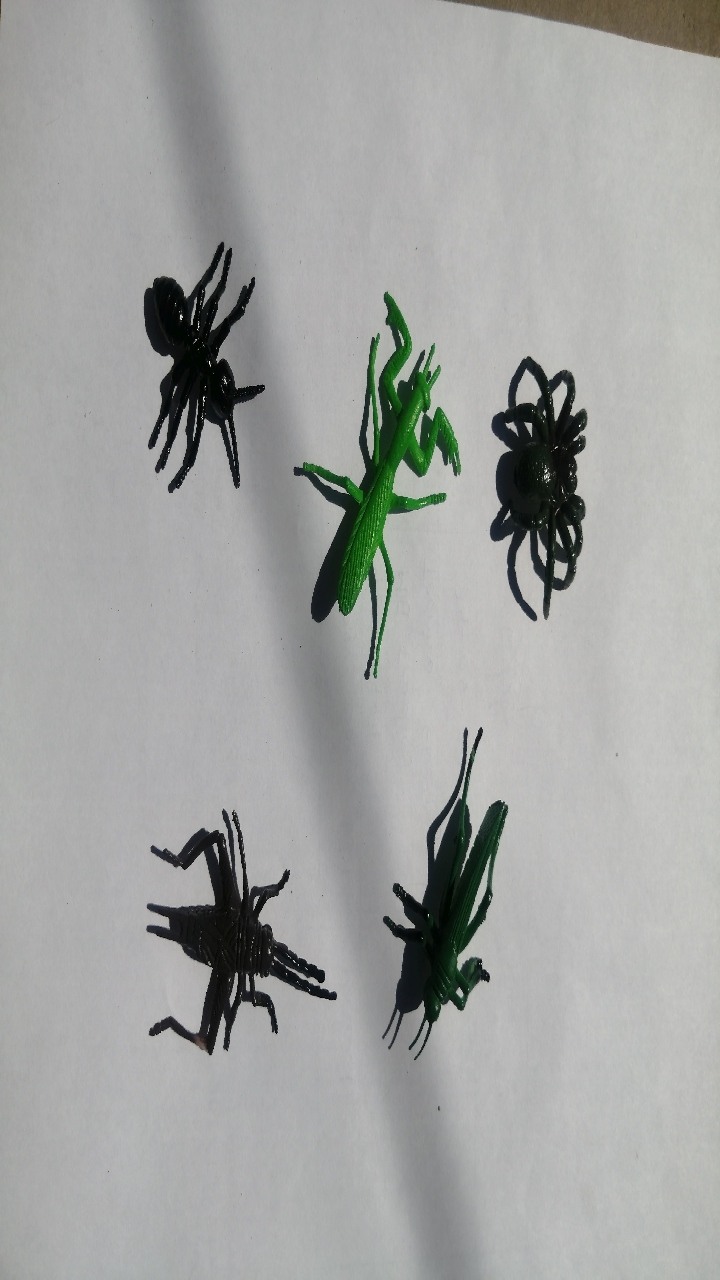intruso: (95, 760, 372, 1086), (288, 255, 468, 705), (349, 719, 560, 1080), (97, 206, 284, 528), (471, 286, 615, 642)
